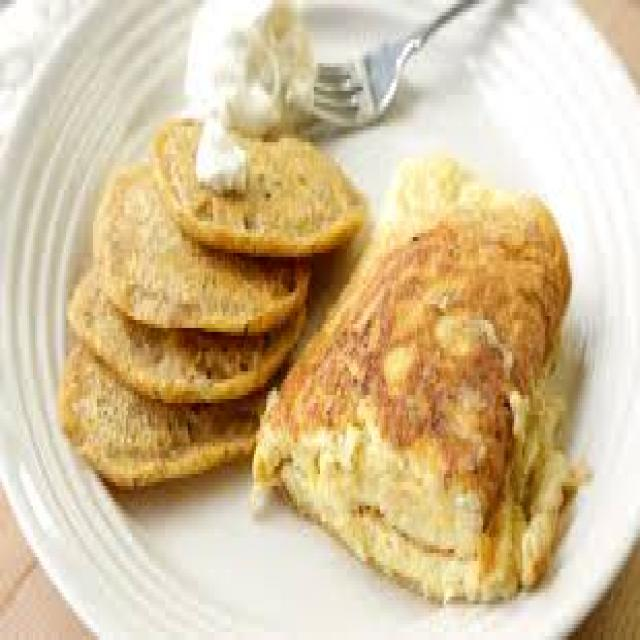Omelette: (254, 146, 576, 601)
Pancakes: (54, 110, 353, 502)
